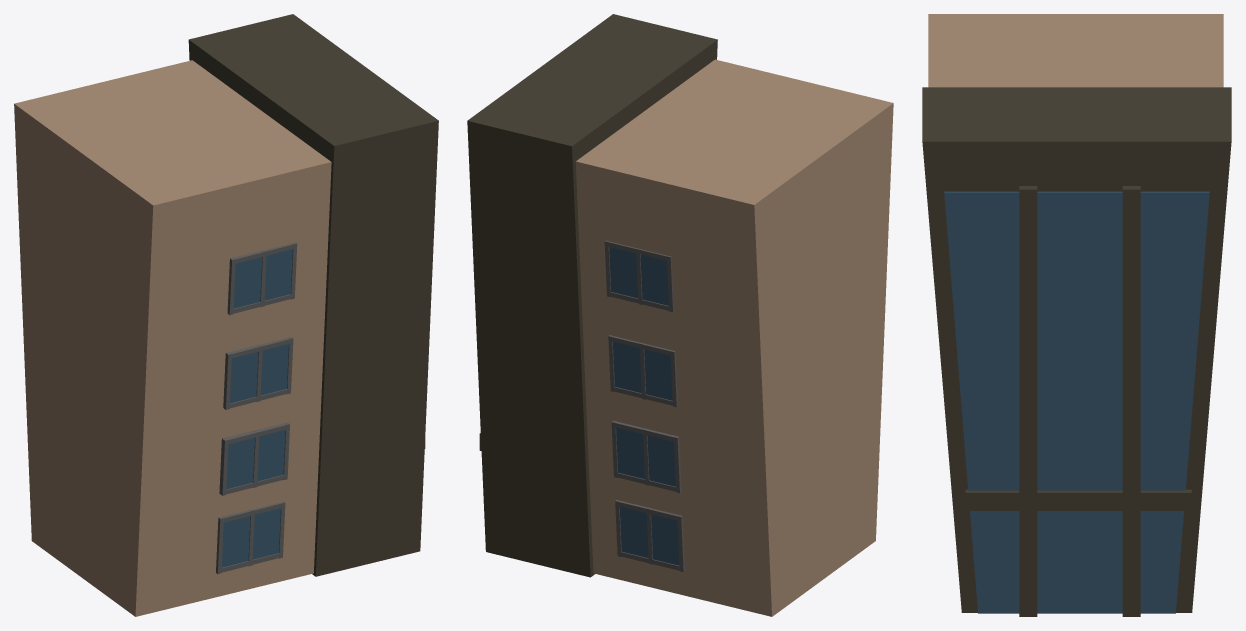
The model's file is building_apartment.fbx.
3 views of the same model, side by side, from view 1: azimuth 30°, elevation 25°; view 2: azimuth 150°, elevation 25°; view 3: azimuth 270°, elevation 25° (orthographic). The views are drawn at different scales.
Parts seen in each view (by area): view 1: pasted__pCube202; view 2: pasted__pCube202; view 3: pasted__pCube202.
Part boxes in pixels (left/top/right/bottom): pasted__pCube202: left=14, top=14, right=438, bottom=616; pasted__pCube202: left=467, top=14, right=893, bottom=616; pasted__pCube202: left=922, top=14, right=1231, bottom=616.
Size of the model in its own units: 104801 by 153789 by 91323.
